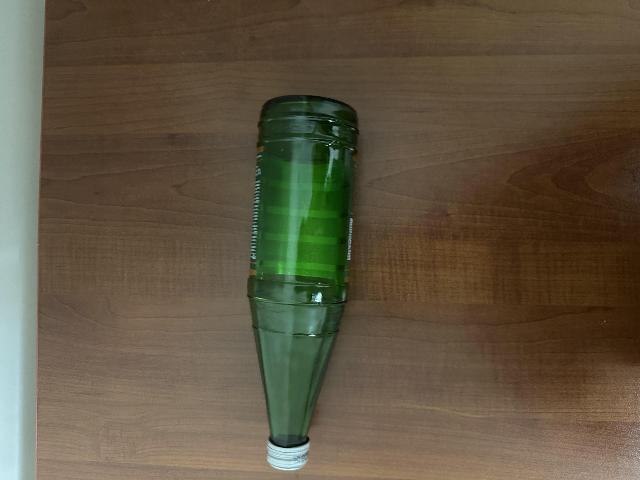Cam: (246, 92, 362, 425)
Metal: (264, 443, 315, 471)
